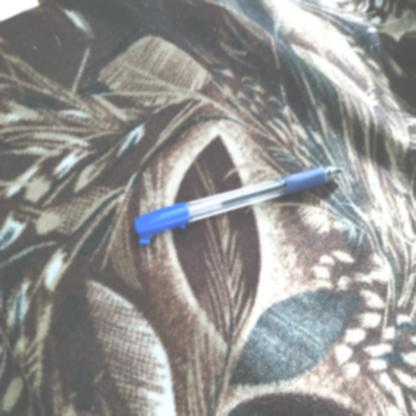Pen: (110, 152, 365, 266)
